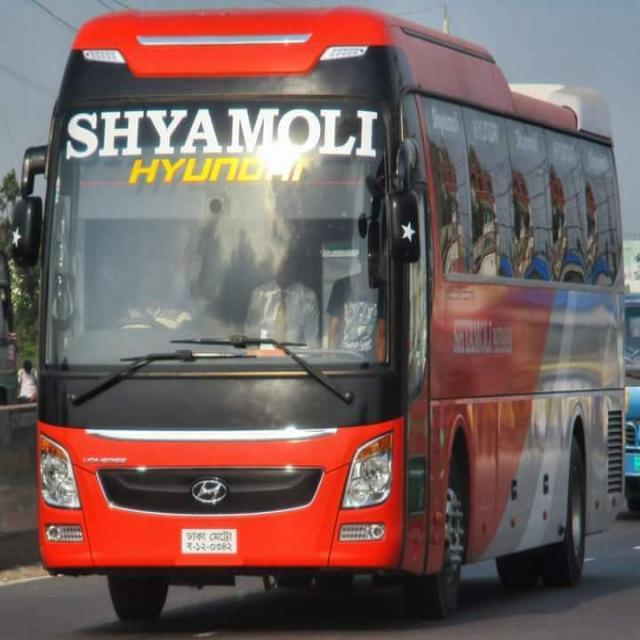bus: (11, 7, 629, 622)
